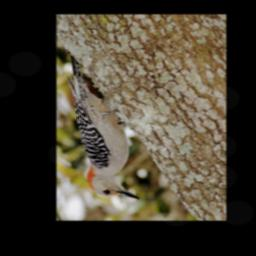Woodpecker: (60, 46, 142, 206)
